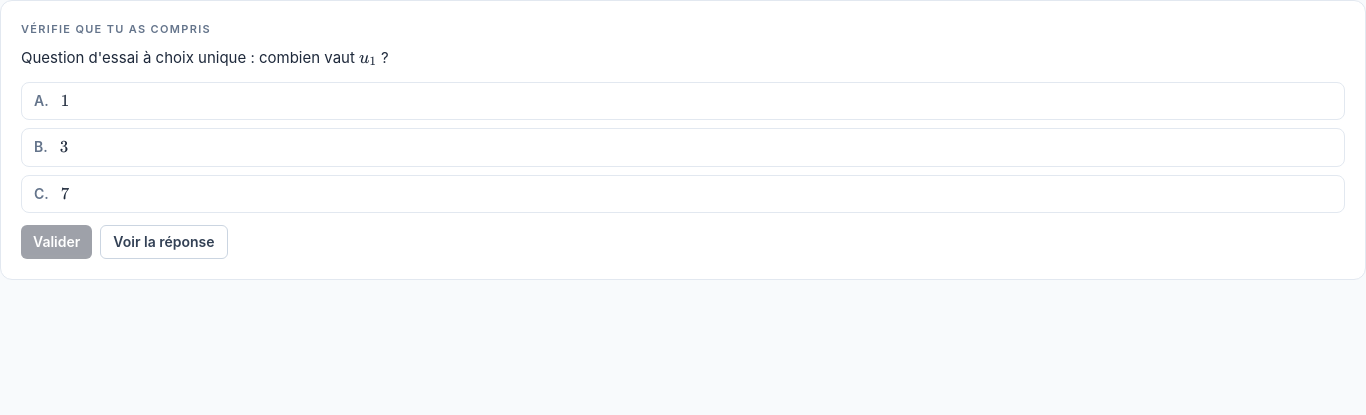
Scenario: BlocCours › corrige un « vérifie » et le signale
The width and height of the screenshot is (1366, 415).
Click the button "A. 1".
click(39, 100)  # box [21, 82, 1345, 120]
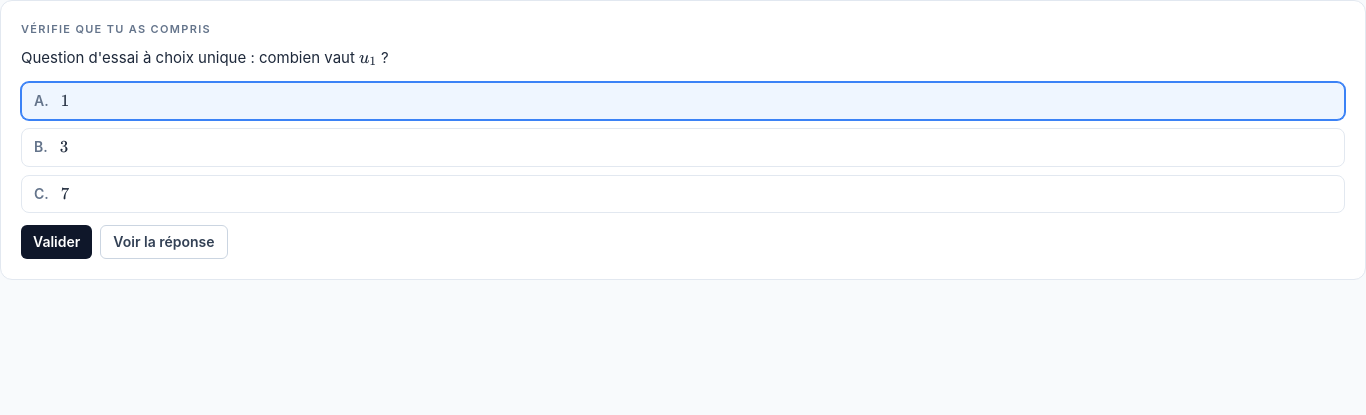
Click the button "Valider".
click(57, 242)  # box [21, 225, 92, 259]
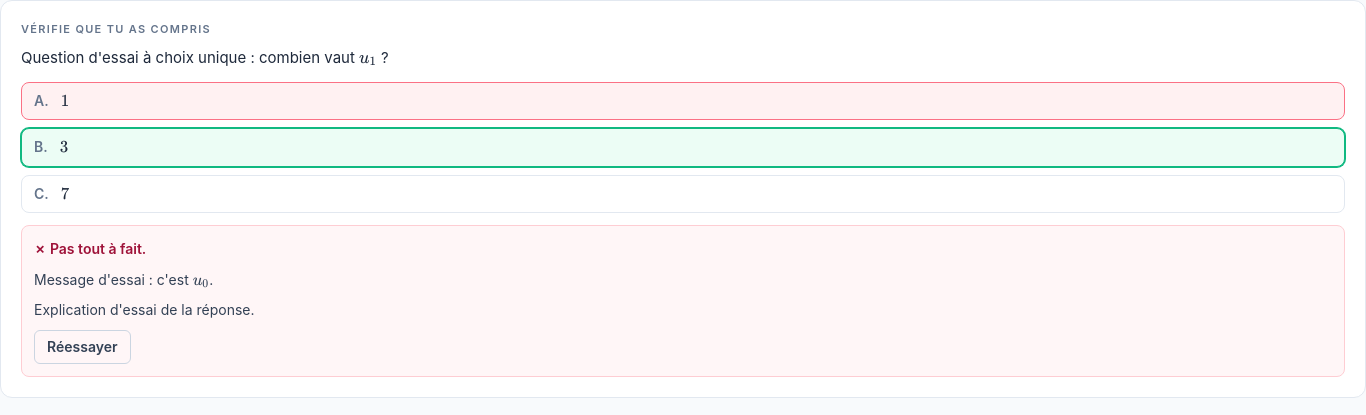
Check: the message shows "Pas tout à fait", box [34, 240, 146, 257]
Check: the message shows "Message d'essai : c'est", box [34, 271, 193, 288]
Click the button "Réessayer".
click(82, 347)  # box [34, 330, 130, 364]
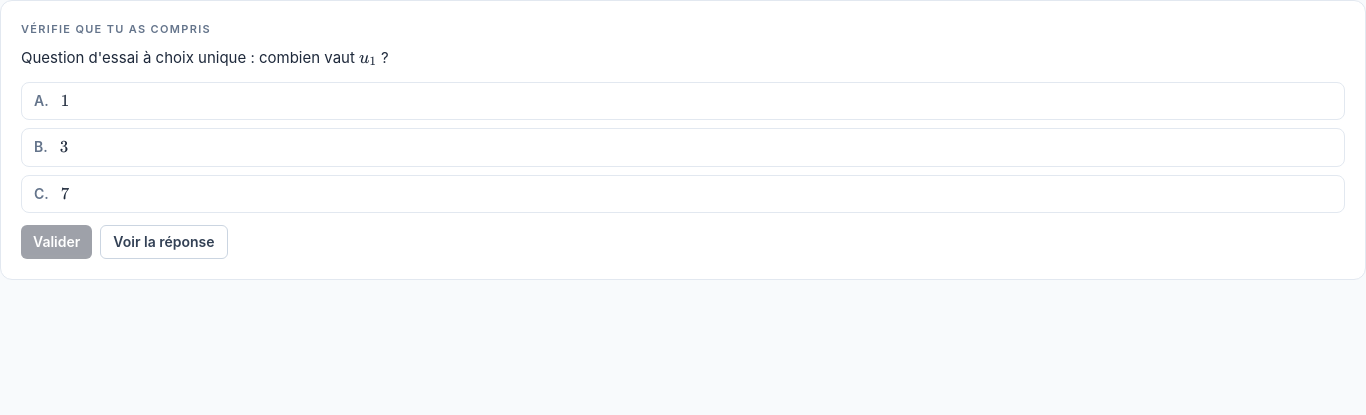
Click the button "B. 3".
click(39, 147)  # box [21, 128, 1345, 166]
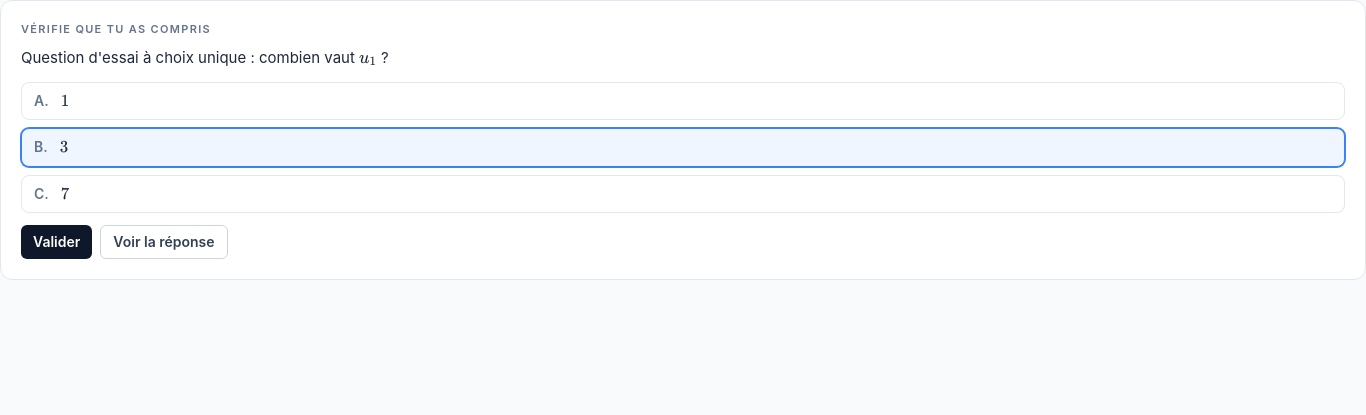
Click the button "Valider".
click(57, 242)  # box [21, 225, 92, 259]
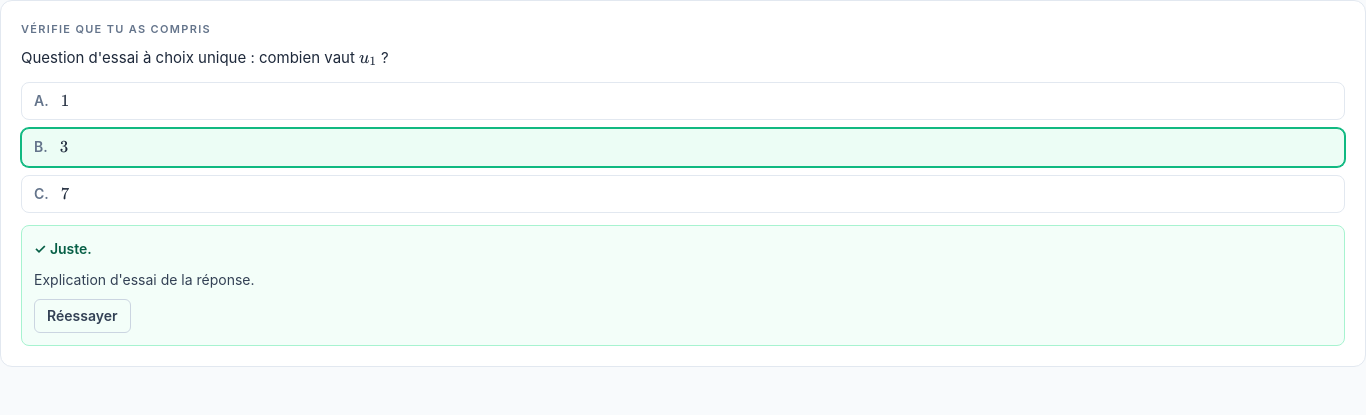
Check: the message shows "Juste", box [34, 240, 92, 257]
